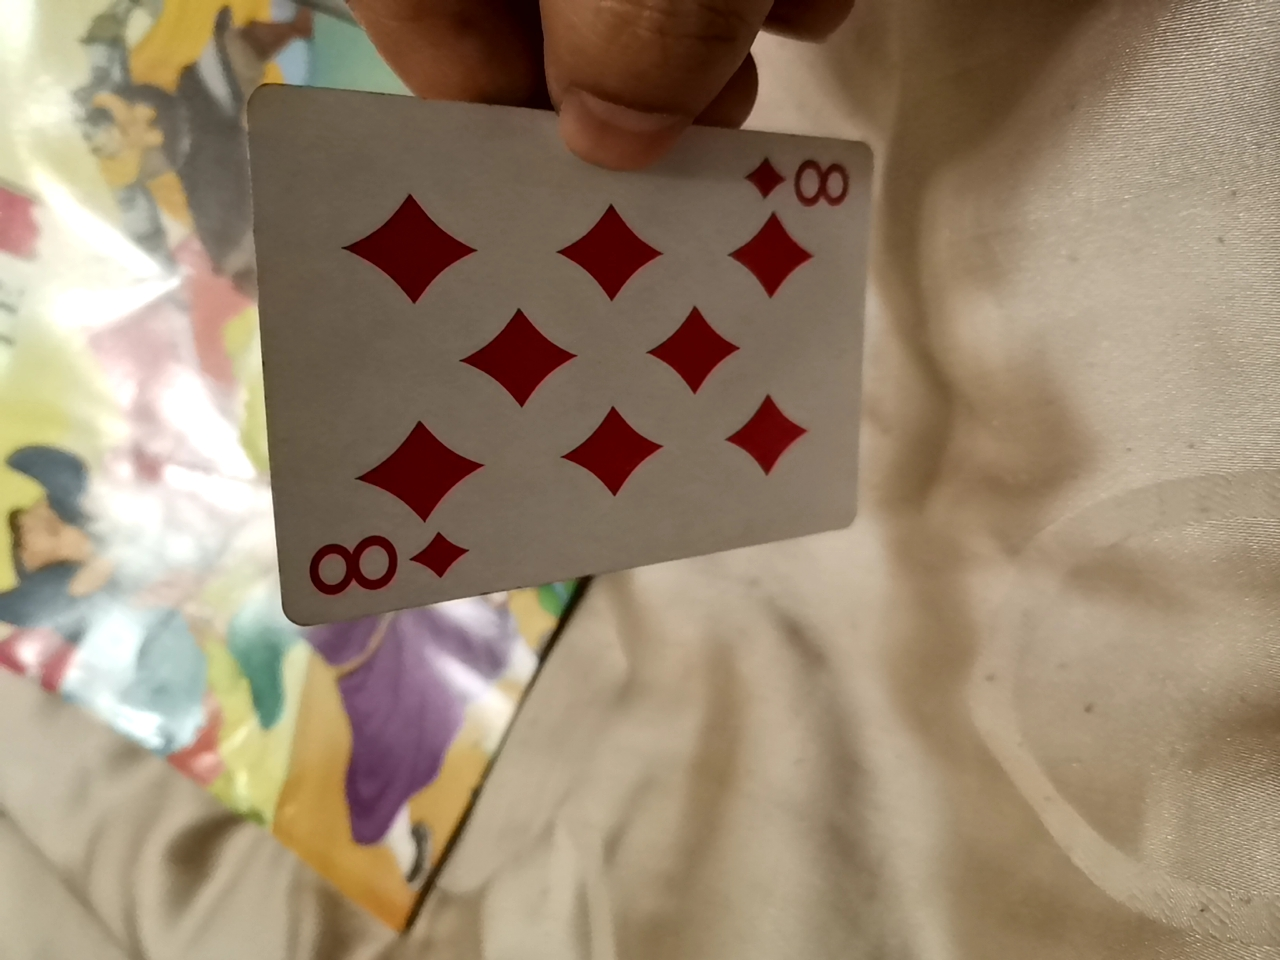fk 8: (282, 91, 874, 565)
